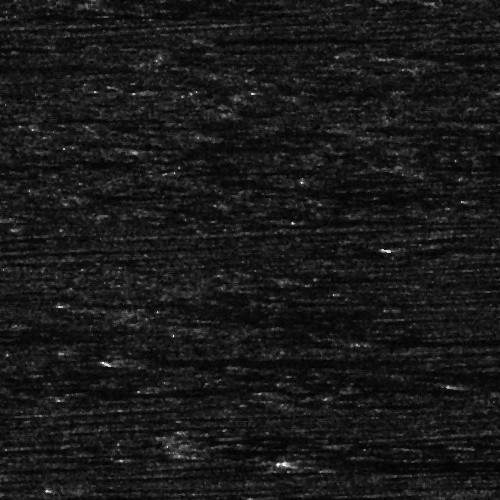object: (320, 335, 383, 346), (433, 381, 486, 386)
shadow: (352, 335, 500, 346), (124, 357, 346, 362), (459, 381, 500, 386)
